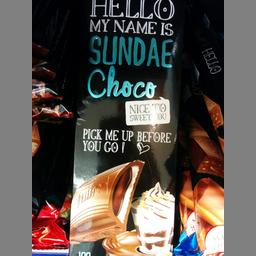chocolate: (68, 0, 178, 255)
